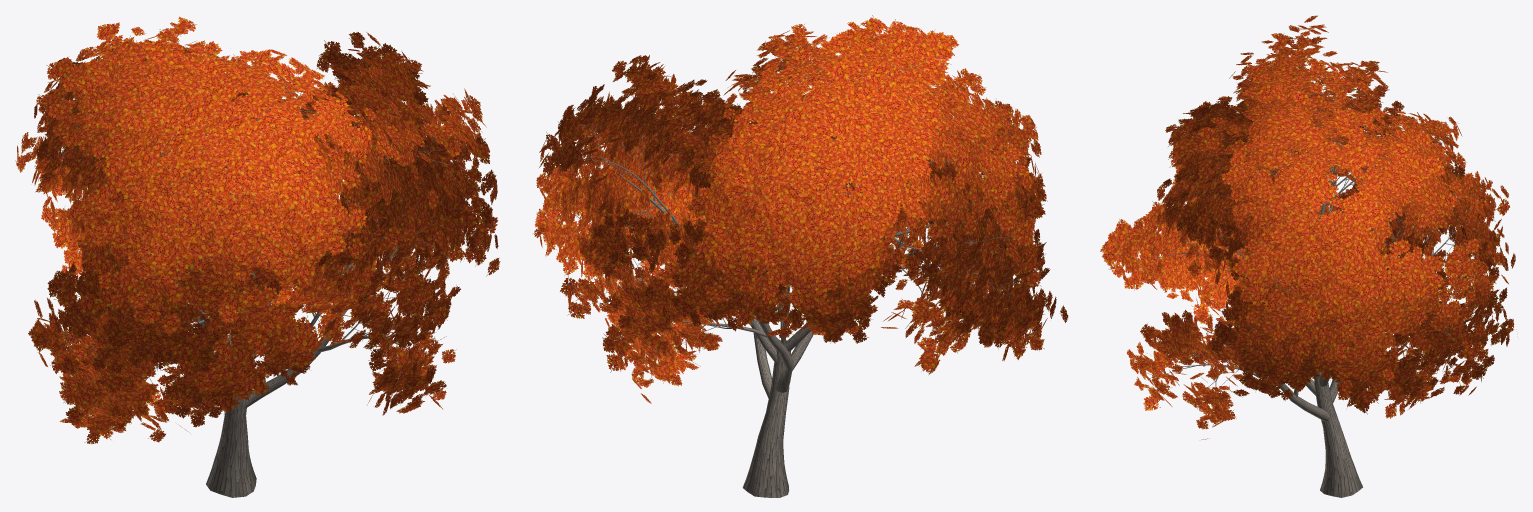
File: tree-maple-orange.glb
3 renders of one model, left to right at view 1: azimuth 30°, elevation 25°; view 2: azimuth 150°, elevation 25°; view 3: azimuth 270°, elevation 25°, orthographic. The views are drawn at different scales.
Parts seen in each view (by area): view 1: leaves, bark; view 2: leaves, bark; view 3: leaves, bark.
Part boxes in pixels (x1,y1,x2,y2): leaves: (15, 16, 500, 444); bark: (35, 40, 481, 497); leaves: (533, 15, 1068, 403); bark: (551, 45, 1044, 497); leaves: (1100, 15, 1515, 439); bark: (1123, 36, 1501, 497).
Bounding box in the file's own units: 12.61 × 12.84 × 11.68.
Materials: 2 (2 with a texture image).
